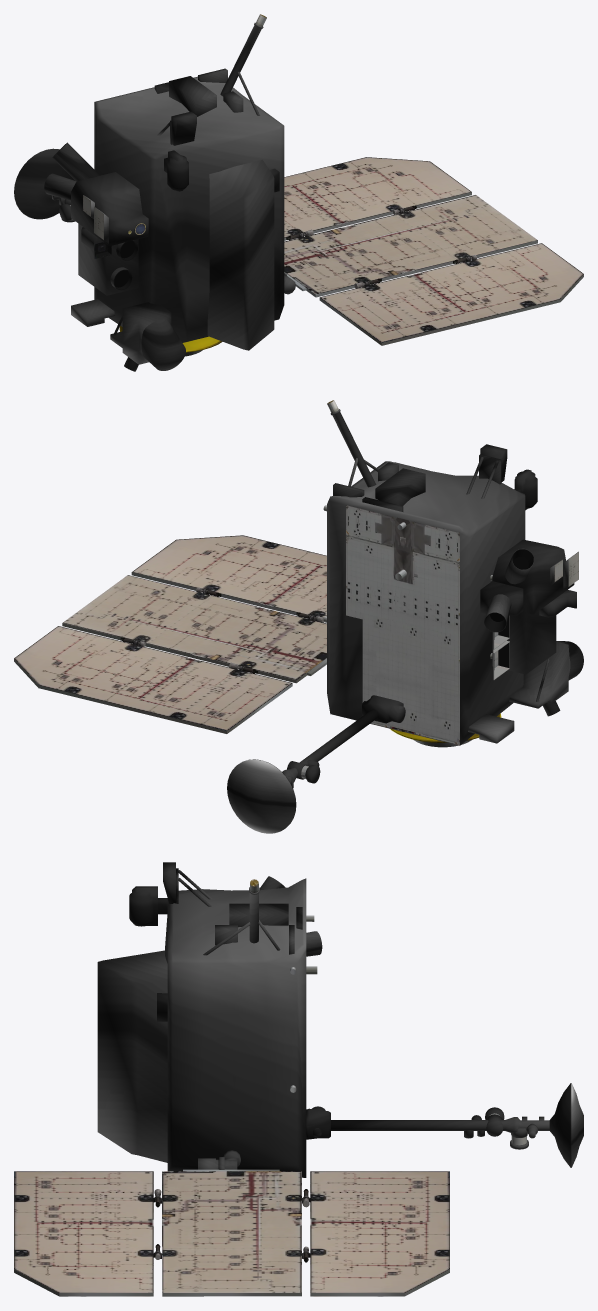
File: lro.glb
The picture shows the model from 3 angles, top to bottom: view 1: azimuth 30°, elevation 25°; view 2: azimuth 150°, elevation 25°; view 3: azimuth 270°, elevation 25°; orthographic projection. The views are drawn at different scales.
Parts seen in each view (by area): view 1: foil_silver_dish, tex, dark_black; view 2: foil_silver_dish, tex, panel, dark_black; view 3: foil_silver_dish, tex, dark_black.
Boxes of the visible parts, x1,y1,x2,y2 form: foil_silver_dish: (14,22,295,371); tex: (284,157,583,342); dark_black: (53,14,583,356); foil_silver_dish: (227,409,583,833); tex: (14,535,326,730); panel: (346,505,459,745); dark_black: (14,400,578,778); foil_silver_dish: (97,862,583,1177); tex: (14,1171,449,1292); dark_black: (14,879,526,1296).
Size of the model in its own units: 5.45 by 3.66 by 5.51.
5 materials, 5 textured.
